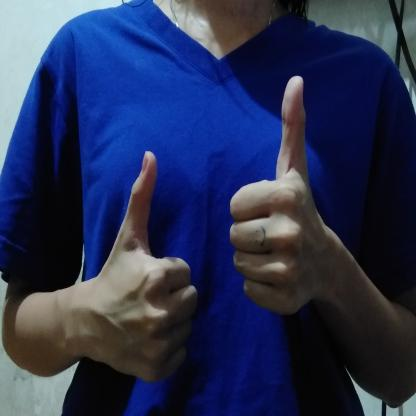which: (91, 73, 321, 385)
